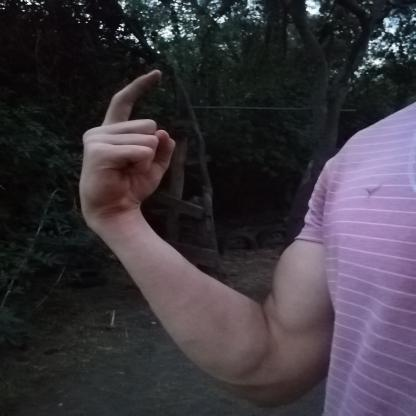RAA: (67, 63, 186, 233)
